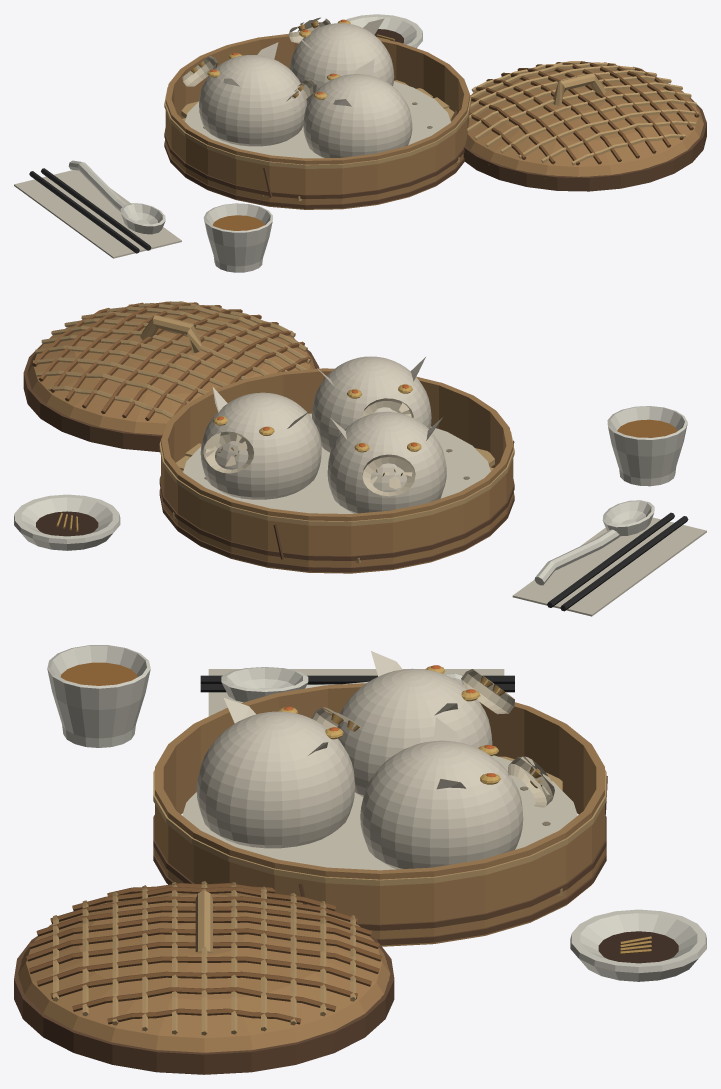
Rendered from piggy.glb.
3 views of the same model, one above another, from view 1: azimuth 30°, elevation 25°; view 2: azimuth 150°, elevation 25°; view 3: azimuth 270°, elevation 25° (orthographic). The views are drawn at different scales.
Visible parts, largest first — view 1: DimDimSumPiggyBuns; view 2: DimDimSumPiggyBuns; view 3: DimDimSumPiggyBuns.
Part boxes in pixels (x1,y1,x2,y2): DimDimSumPiggyBuns: (14, 14, 706, 272); DimDimSumPiggyBuns: (14, 301, 706, 616); DimDimSumPiggyBuns: (14, 645, 706, 1074).
Size of the model in its own units: 0.7975 by 0.13 by 0.5598.
